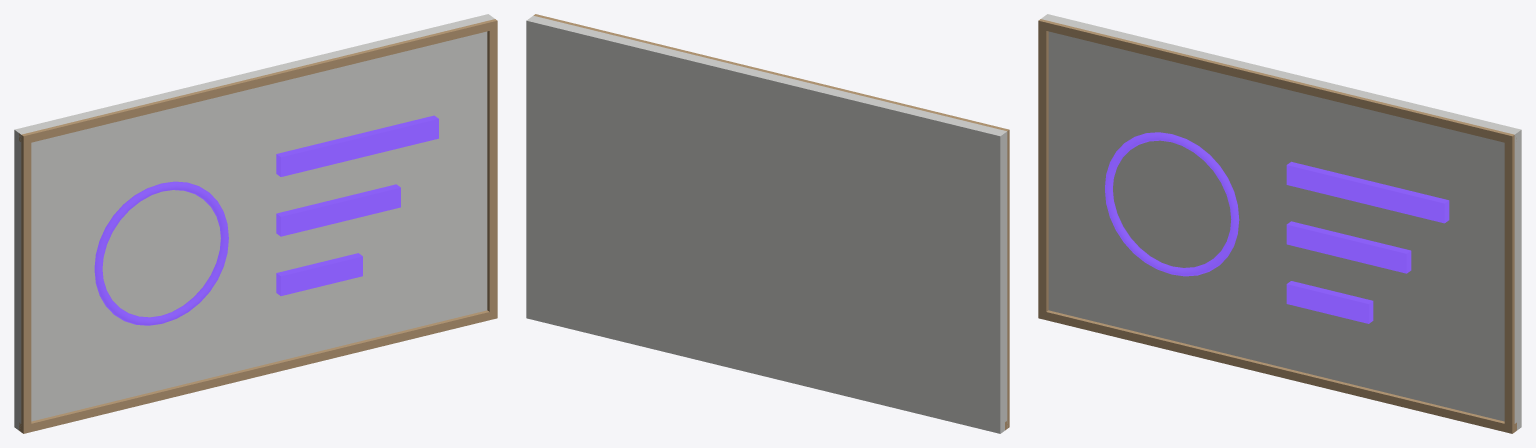
File: Deco_NeonSign.gltf
The picture shows the model from 3 angles, left to right: view 1: azimuth 30°, elevation 25°; view 2: azimuth 150°, elevation 25°; view 3: azimuth 330°, elevation 25°; orthographic projection.
Parts seen in each view (by area): view 1: Deco_NeonSign; view 2: Deco_NeonSign; view 3: Deco_NeonSign.
Part boxes in pixels (left/top/right/bottom): Deco_NeonSign: left=14, top=14, right=497, bottom=433; Deco_NeonSign: left=526, top=14, right=1009, bottom=433; Deco_NeonSign: left=1038, top=14, right=1521, bottom=433.
Bounding box in the file's own units: 1.2 × 0.72 × 0.06.
